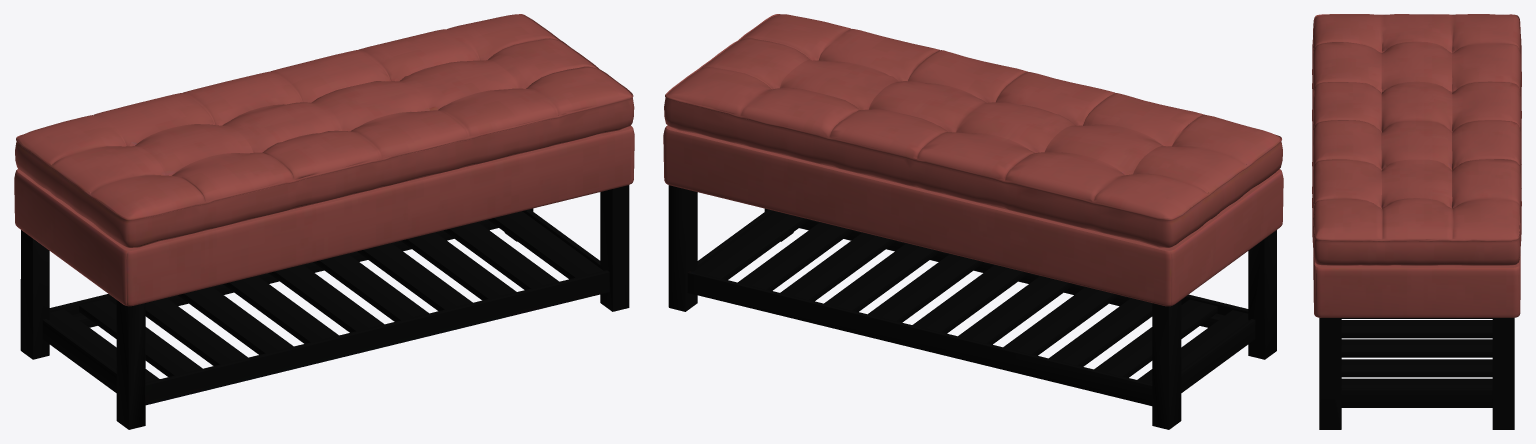
The model's file is B07GZMSRNF.glb.
The picture shows the model from 3 angles, left to right: view 1: azimuth 30°, elevation 25°; view 2: azimuth 150°, elevation 25°; view 3: azimuth 270°, elevation 25°; orthographic projection. The views are drawn at different scales.
Visible parts, largest first — view 1: B07GZMSRNF; view 2: B07GZMSRNF; view 3: B07GZMSRNF.
Part boxes in pixels (x1=…): B07GZMSRNF: x1=14, y1=14, x2=634, y2=429; B07GZMSRNF: x1=663, y1=14, x2=1283, y2=429; B07GZMSRNF: x1=1312, y1=14, x2=1521, y2=429.
Bounding box in the file's own units: 1.1 × 0.4602 × 0.4318.
Materials: 1 (1 with a texture image).
